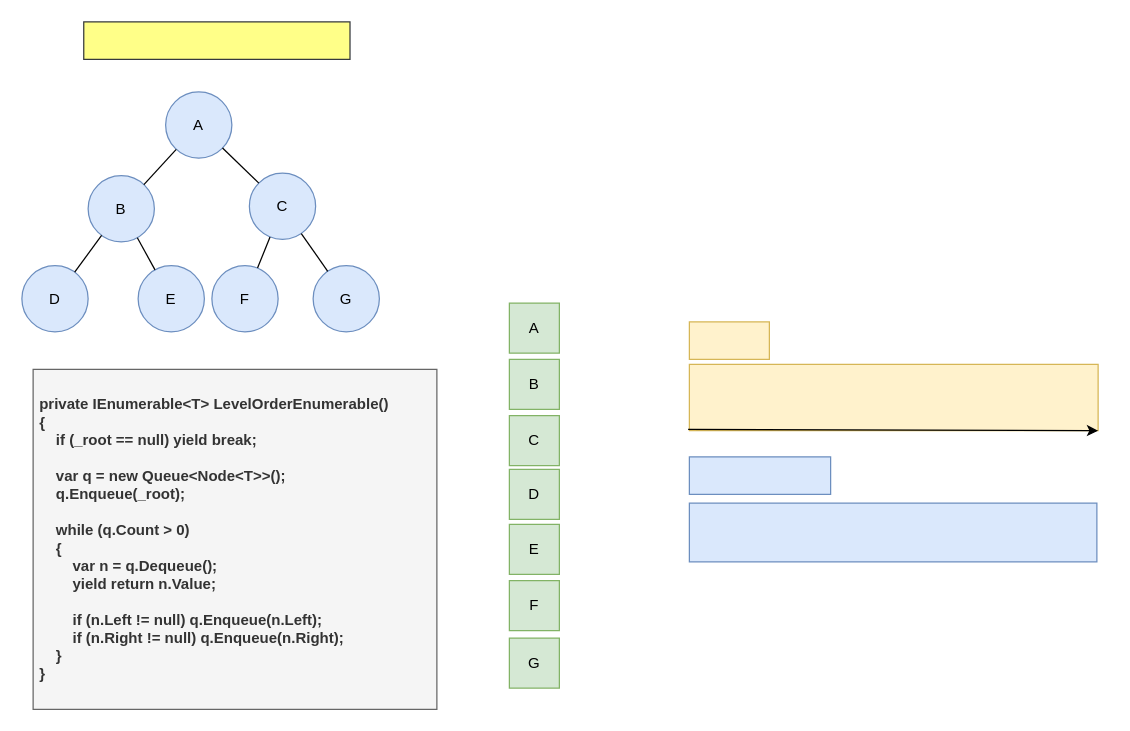
Image size: 1130x731. Some labels were removed from this diagram. Each missing label, with the centre of its shape:
IEnumerable<>: the point at 759,475
Queue: the point at 728,340
VENSTRE - ROOT - HØYRE: the point at 216,40
